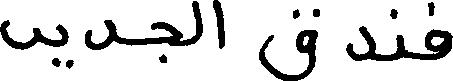X: (261, 4, 313, 80), (427, 0, 452, 64), (0, 15, 36, 54), (152, 17, 178, 67), (347, 21, 373, 65), (85, 15, 112, 54), (214, 0, 223, 53), (58, 19, 66, 71), (195, 0, 201, 47), (397, 7, 401, 64)
